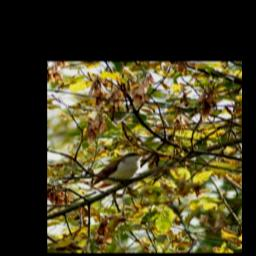Cuckoo: (83, 148, 152, 188)
